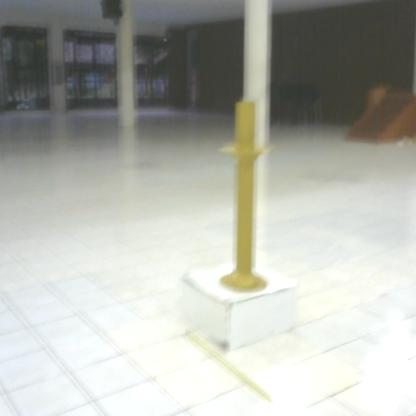pole: (210, 92, 279, 303)
